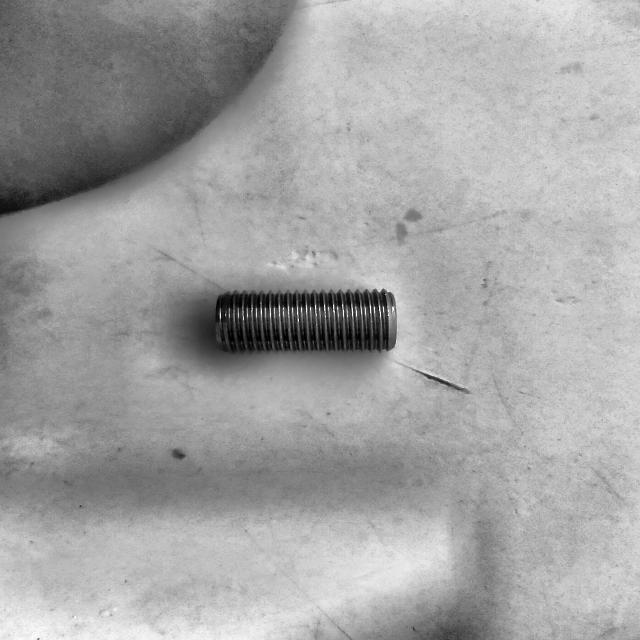Normal: (214, 287, 398, 356)
